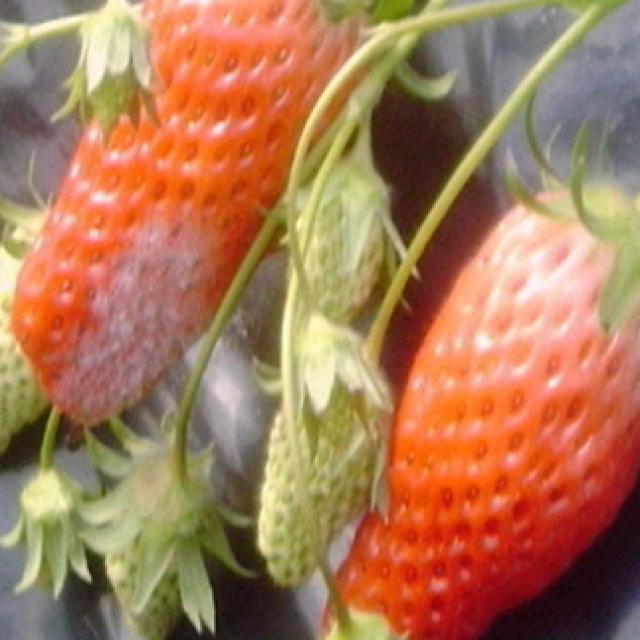Powdery Mildew Fruit: (40, 194, 236, 427)
